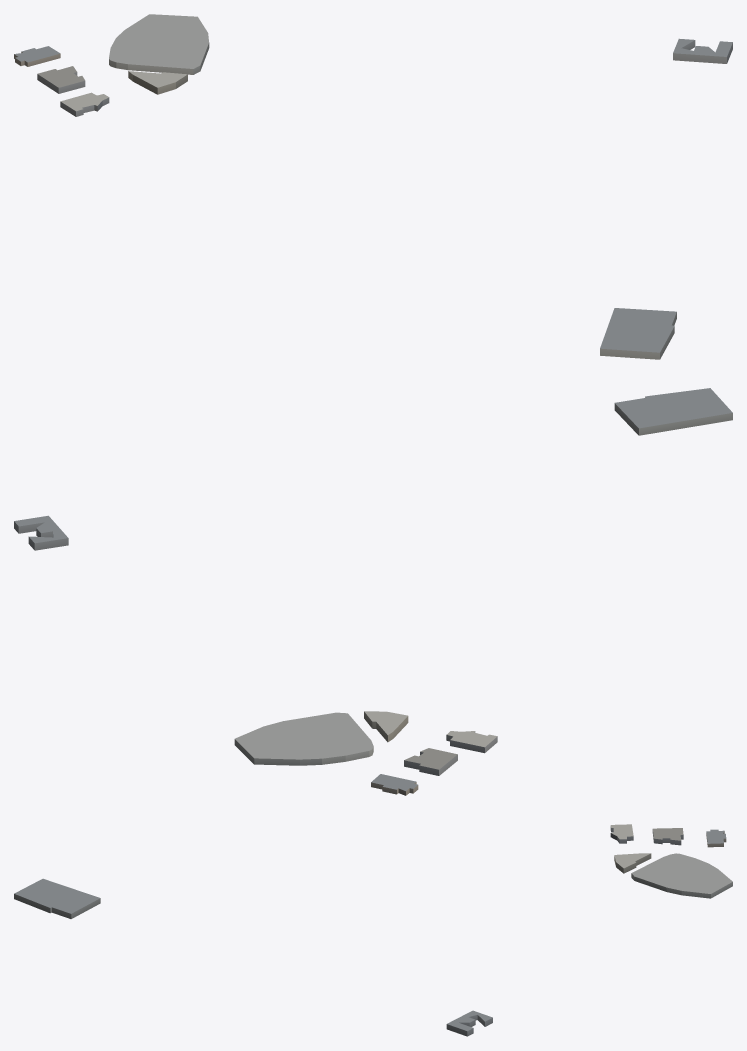
Rendered from bld_9_3.fbx.
The picture shows the model from 3 angles, top to bottom: view 1: azimuth 30°, elevation 25°; view 2: azimuth 150°, elevation 25°; view 3: azimuth 270°, elevation 25°; orthographic projection. The views are drawn at different scales.
Parts seen in each view (by area): view 1: bld_9_3_LOD0; view 2: bld_9_3_LOD0; view 3: bld_9_3_LOD0.
Part boxes in pixels (x1,y1,x2,y2): bld_9_3_LOD0: [14, 14, 732, 359]; bld_9_3_LOD0: [14, 388, 732, 795]; bld_9_3_LOD0: [14, 824, 732, 1036].
Size of the model in its own units: 1090 by 13.15 by 1592.
